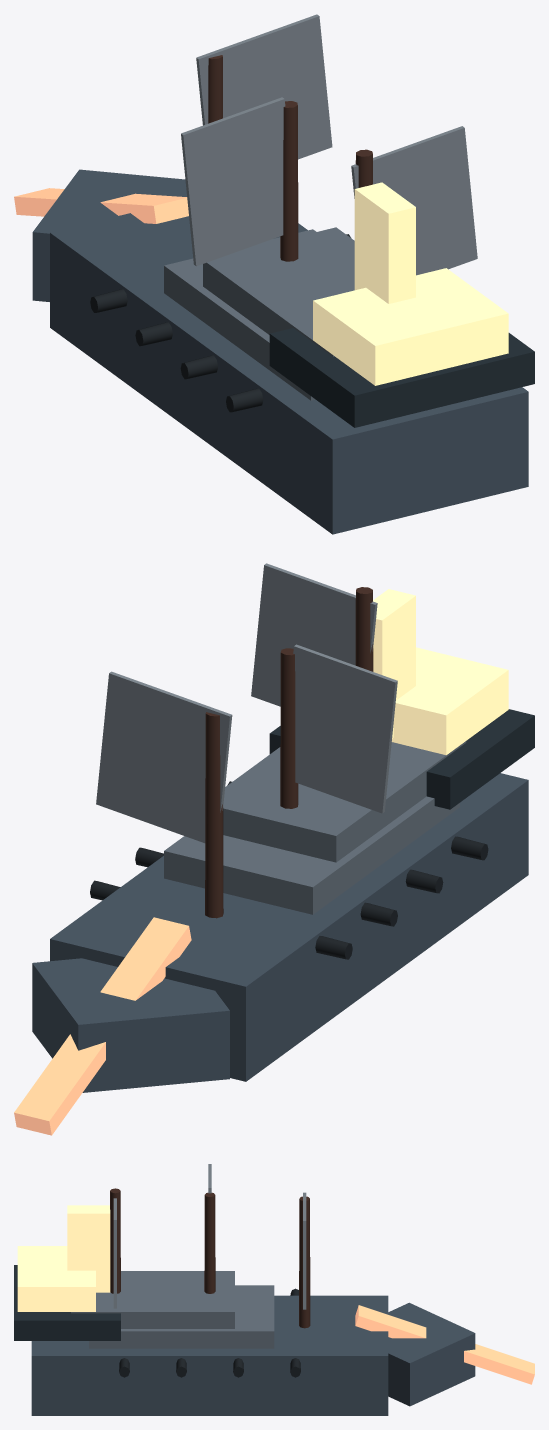
The model's file is ship_main_60.glb.
3 views of the same model, one above another, from view 1: azimuth 30°, elevation 25°; view 2: azimuth 150°, elevation 25°; view 3: azimuth 270°, elevation 25° (orthographic). The views are drawn at different scales.
Parts seen in each view (by area): view 1: Hull, UpperGallery, Sail_1, LowerGallery, Deck_1, Sail_0, Sail_2, CrownSpire, Bow, Deck_0, ProwIdentity, Mast_1 (+5 smaller); view 2: Hull, Bow, Sail_0, Sail_1, Deck_1, Deck_0, Sail_2, UpperGallery, ProwIdentity, LowerGallery, CrownSpire, Mast_0 (+2 smaller); view 3: Hull, Deck_1, Bow, Deck_0, UpperGallery, LowerGallery, CrownSpire, ProwIdentity, Mast_1, Mast_0, Mast_2, Sail_0 (+1 smaller).
Boxes of the visible parts, bbox=[...] form: Hull: bbox=[50, 213, 528, 534]; UpperGallery: bbox=[313, 268, 508, 385]; Sail_1: bbox=[181, 97, 285, 266]; LowerGallery: bbox=[269, 328, 534, 427]; Deck_1: bbox=[203, 227, 354, 356]; Sail_0: bbox=[196, 14, 332, 159]; Sail_2: bbox=[351, 126, 477, 275]; CrownSpire: bbox=[354, 182, 415, 303]; Bow: bbox=[32, 169, 186, 301]; Deck_0: bbox=[164, 229, 316, 400]; ProwIdentity: bbox=[14, 188, 188, 223]; Mast_1: bbox=[280, 101, 298, 261]; Hull: bbox=[50, 773, 528, 1081]; Bow: bbox=[32, 958, 229, 1092]; Sail_0: bbox=[96, 671, 232, 843]; Sail_1: bbox=[293, 644, 397, 813]; Deck_1: bbox=[223, 741, 466, 862]; Deck_0: bbox=[164, 796, 459, 914]; Sail_2: bbox=[251, 563, 377, 706]; UpperGallery: bbox=[391, 647, 508, 755]; ProwIdentity: bbox=[14, 917, 191, 1135]; LowerGallery: bbox=[269, 709, 534, 809]; CrownSpire: bbox=[373, 589, 415, 738]; Mast_0: bbox=[205, 712, 223, 918]; Hull: bbox=[31, 1295, 388, 1415]; Deck_1: bbox=[71, 1271, 234, 1328]; Bow: bbox=[388, 1302, 475, 1406]; Deck_0: bbox=[89, 1285, 274, 1348]; UpperGallery: bbox=[17, 1246, 95, 1311]; LowerGallery: bbox=[14, 1265, 120, 1340]; CrownSpire: bbox=[67, 1205, 110, 1292]; ProwIdentity: bbox=[355, 1305, 534, 1384]; Mast_1: bbox=[204, 1192, 215, 1293]; Mast_0: bbox=[299, 1196, 310, 1328]; Mast_2: bbox=[110, 1188, 120, 1293]; Sail_0: bbox=[303, 1192, 306, 1309].
Size of the model in its own units: 3.3 by 3.86 by 9.26.
